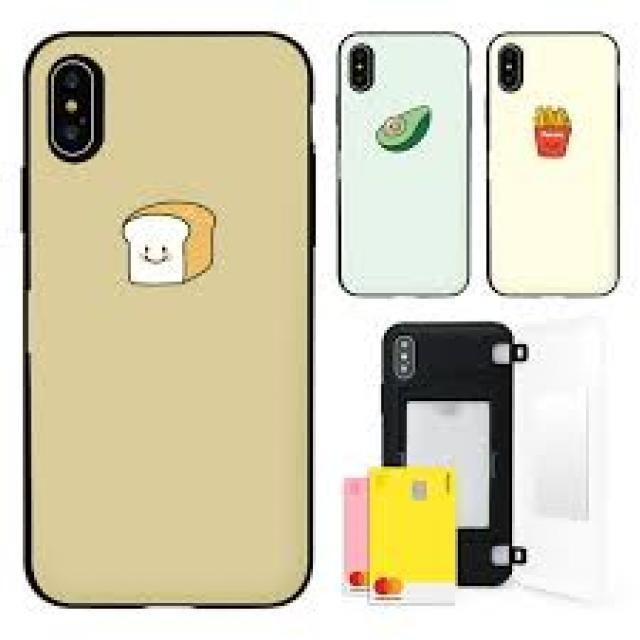Phone: (17, 26, 320, 616), (482, 29, 623, 302), (378, 318, 516, 588), (334, 26, 470, 299)
